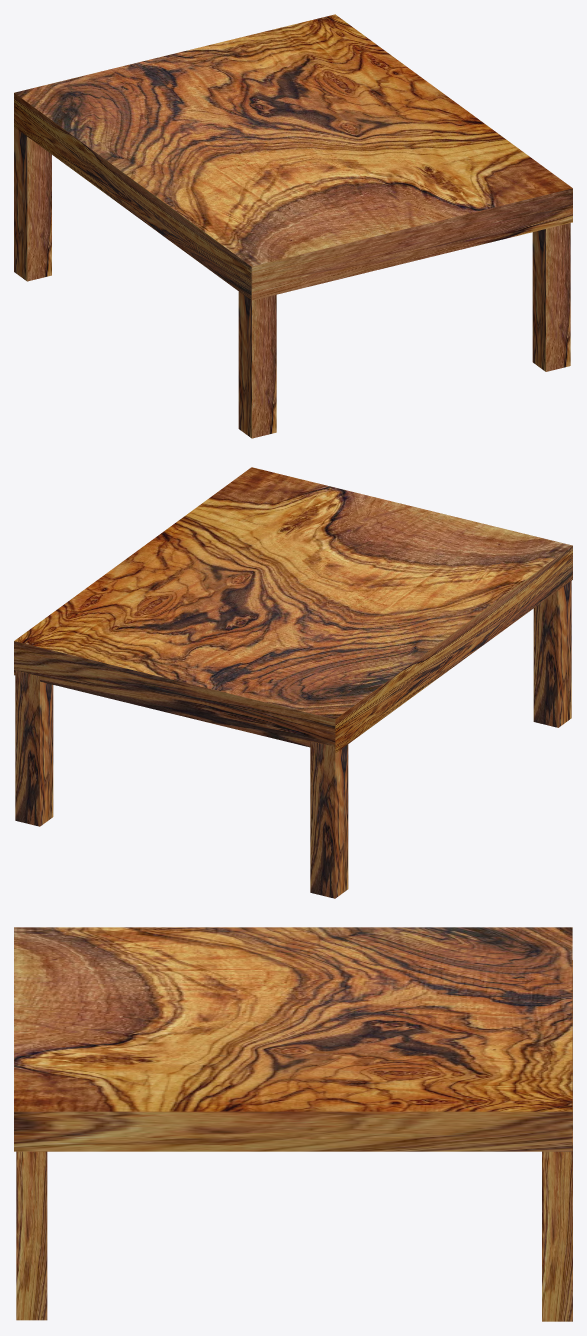
The model's file is tavolo.obj.
3 views of the same model, one above another, from view 1: azimuth 30°, elevation 25°; view 2: azimuth 150°, elevation 25°; view 3: azimuth 270°, elevation 25° (orthographic). The views are drawn at different scales.
Parts seen in each view (by area): view 1: Cube.001_Cube.003; view 2: Cube.001_Cube.003; view 3: Cube.001_Cube.003.
Boxes of the visible parts, box(x1,y1,x2,y2) form: Cube.001_Cube.003: box(14, 14, 572, 438); Cube.001_Cube.003: box(14, 467, 572, 898); Cube.001_Cube.003: box(14, 927, 572, 1321).
Bounding box in the file's own units: 1.38 × 0.7364 × 1.77.
Materials: 1 (1 with a texture image).
